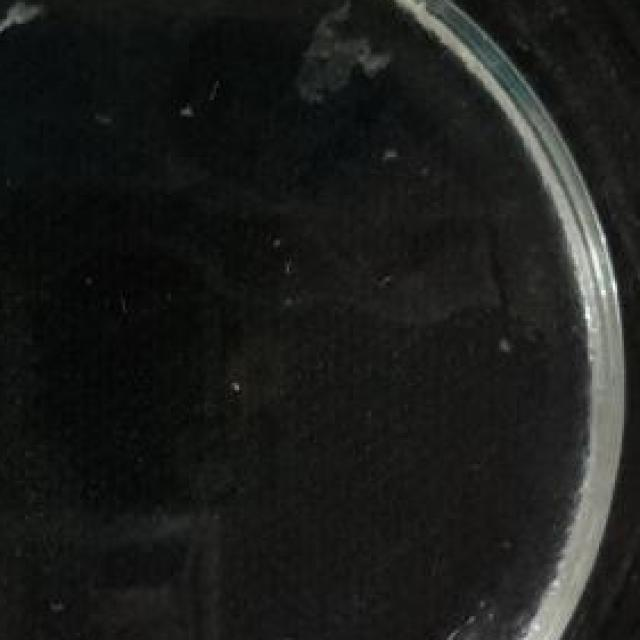Microplastic: (271, 8, 403, 140), (0, 0, 55, 50)
